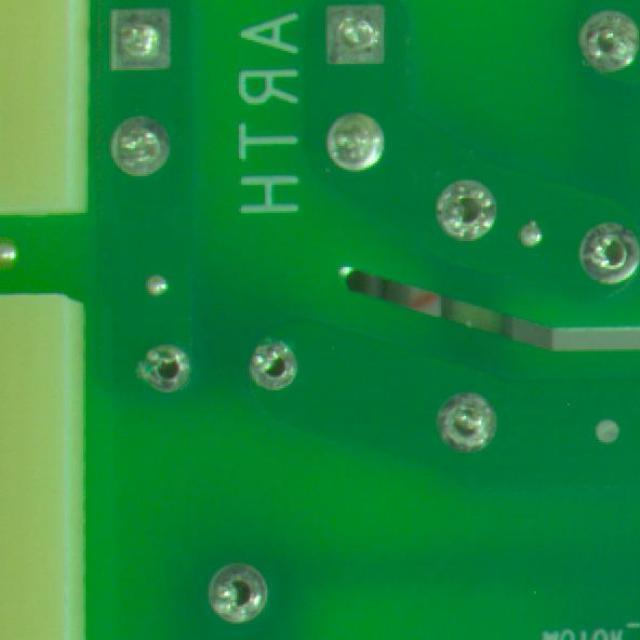Insufficient solder: (550, 201, 640, 300), (310, 0, 412, 85), (88, 6, 194, 86), (418, 172, 512, 246), (198, 556, 284, 630), (314, 106, 400, 180), (96, 100, 178, 174), (577, 0, 640, 89), (122, 328, 195, 401), (232, 330, 305, 402)
